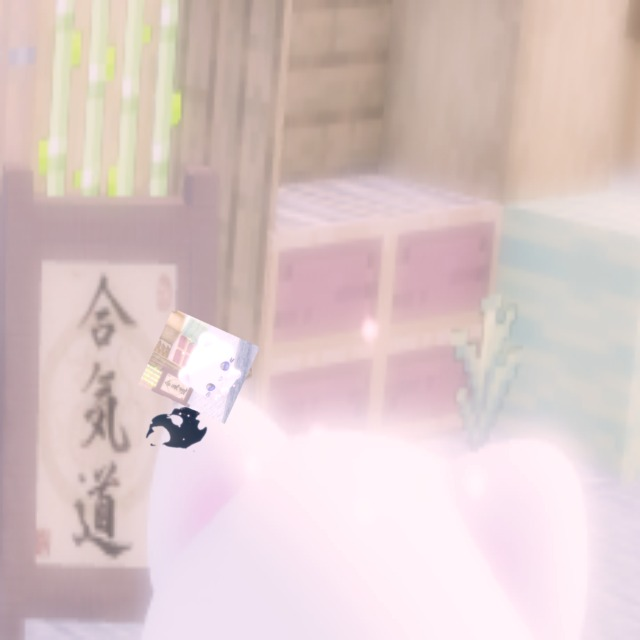urso_branco: (138, 308, 260, 424), (199, 343, 252, 394)
urso_preto: (137, 401, 217, 457)
